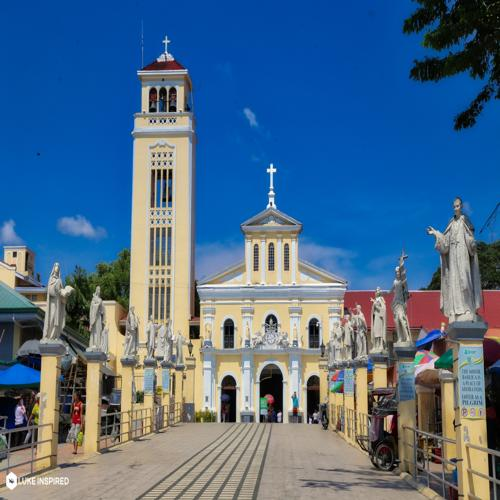Manaoag Church: (107, 33, 347, 429)
